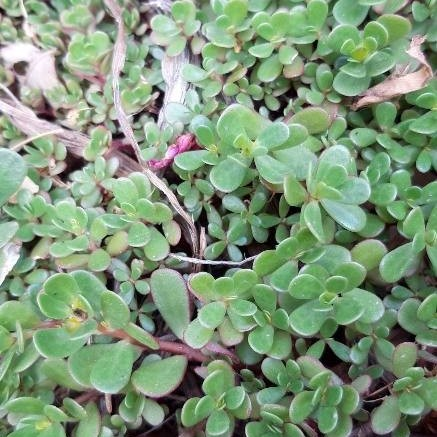obstacle: (46, 67, 387, 401)
